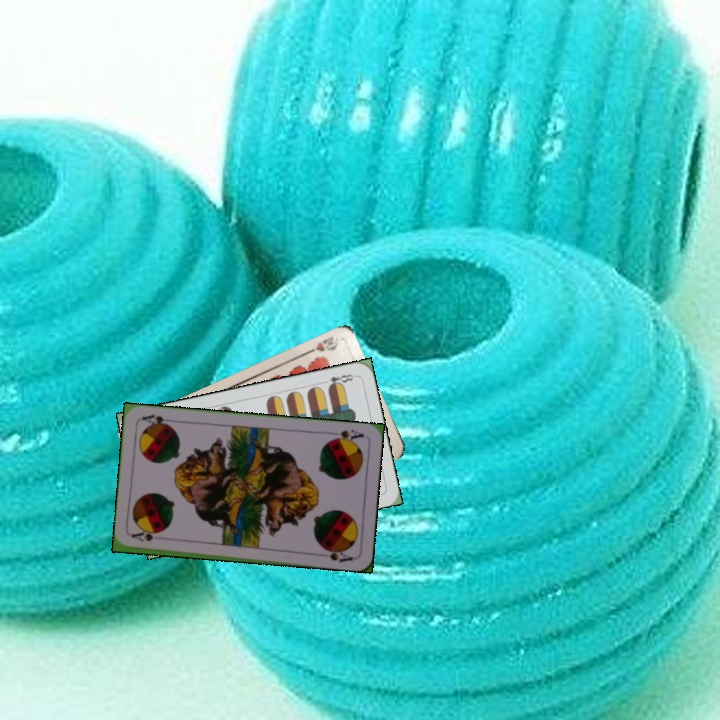E8: (317, 370, 358, 391)
H10: (302, 332, 341, 357)
SA: (325, 425, 367, 445), (128, 529, 156, 544)
